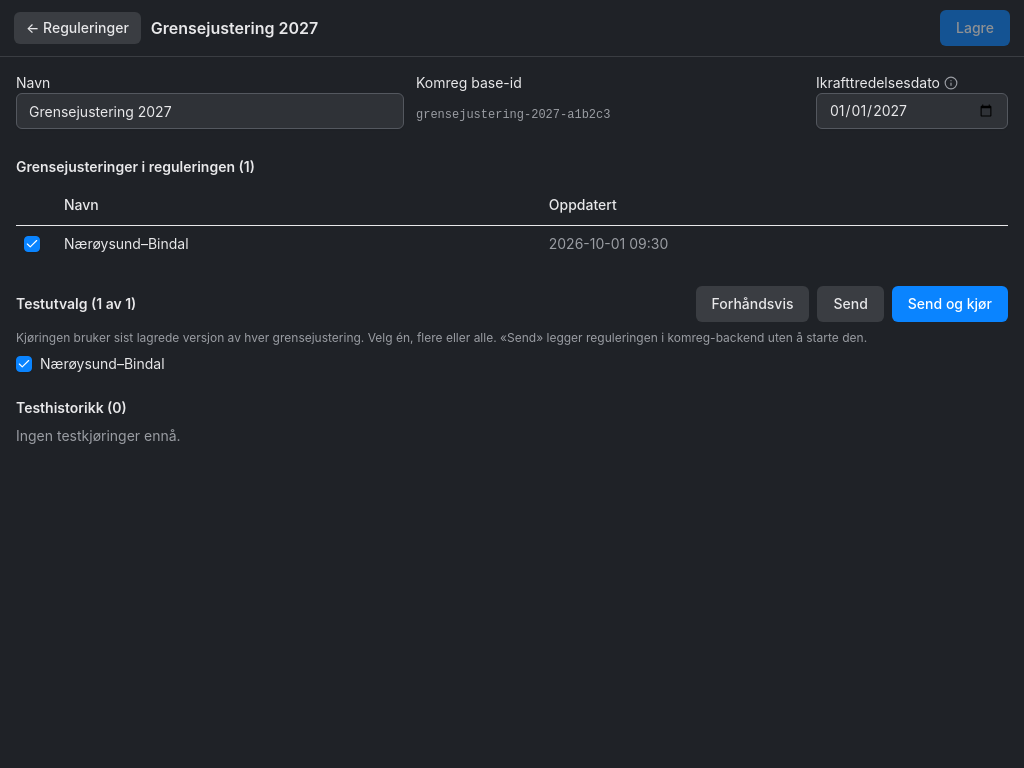
Test: ReguleringView › disables sending only when nothing is left in the test selection
Check: the heading "Testutvalg (1 av 1)" is shown, box [16,294,136,314]
Click the checkbox named "Nærøysund–Bindal" below "Testutvalg (": (24, 364) [16,356,32,372]
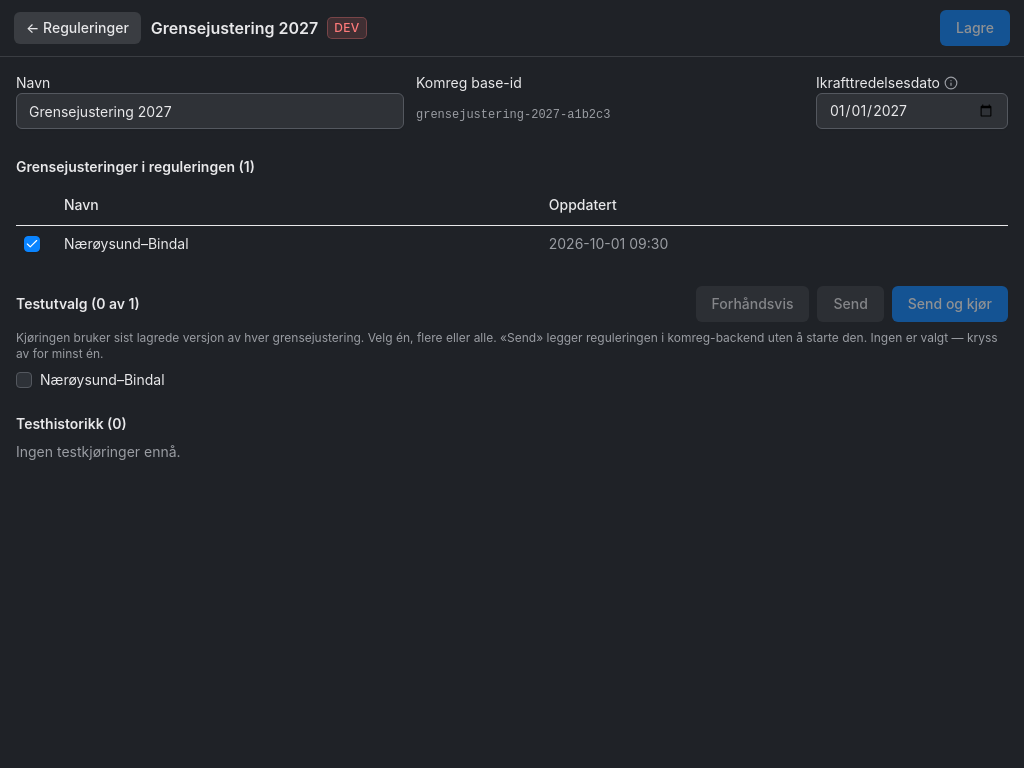
Check: the heading "Testutvalg (0 av 1)" is shown, box [16,294,140,314]
Check: the button "Send og kjør" is disabled, box [892,286,1008,322]
Click the checkbox named "Nærøysund–Bindal" below "Testutvalg (": (24, 380) [16,372,32,388]
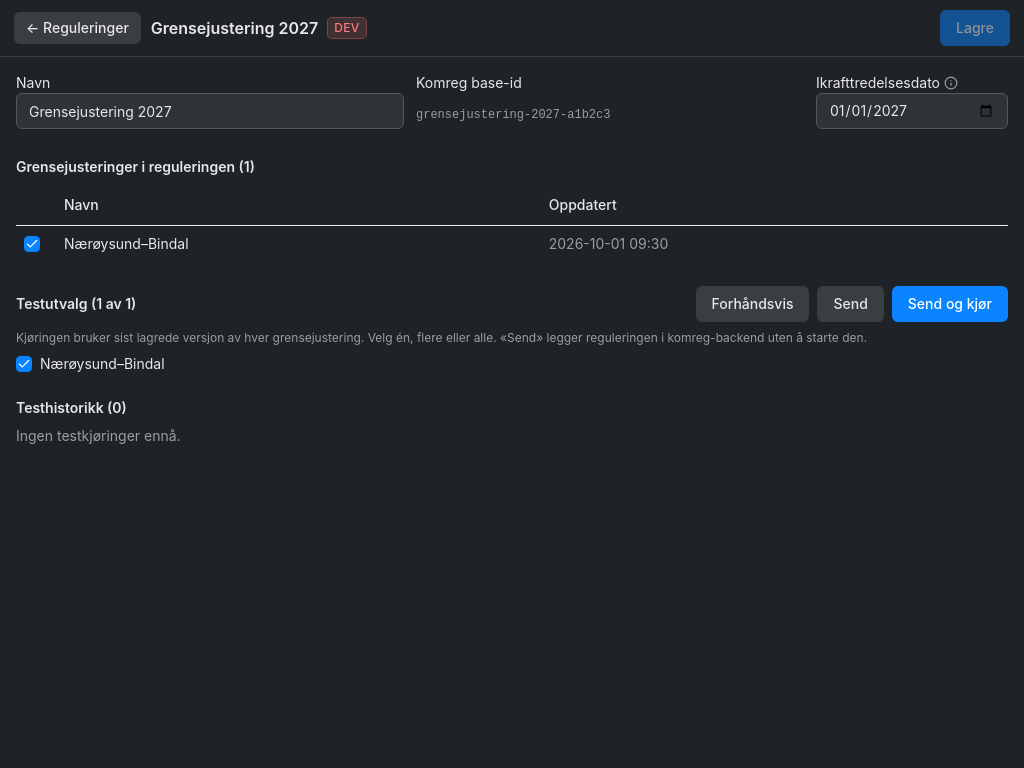
Check: the button "Send og kjør" is enabled, box [892,286,1008,322]
